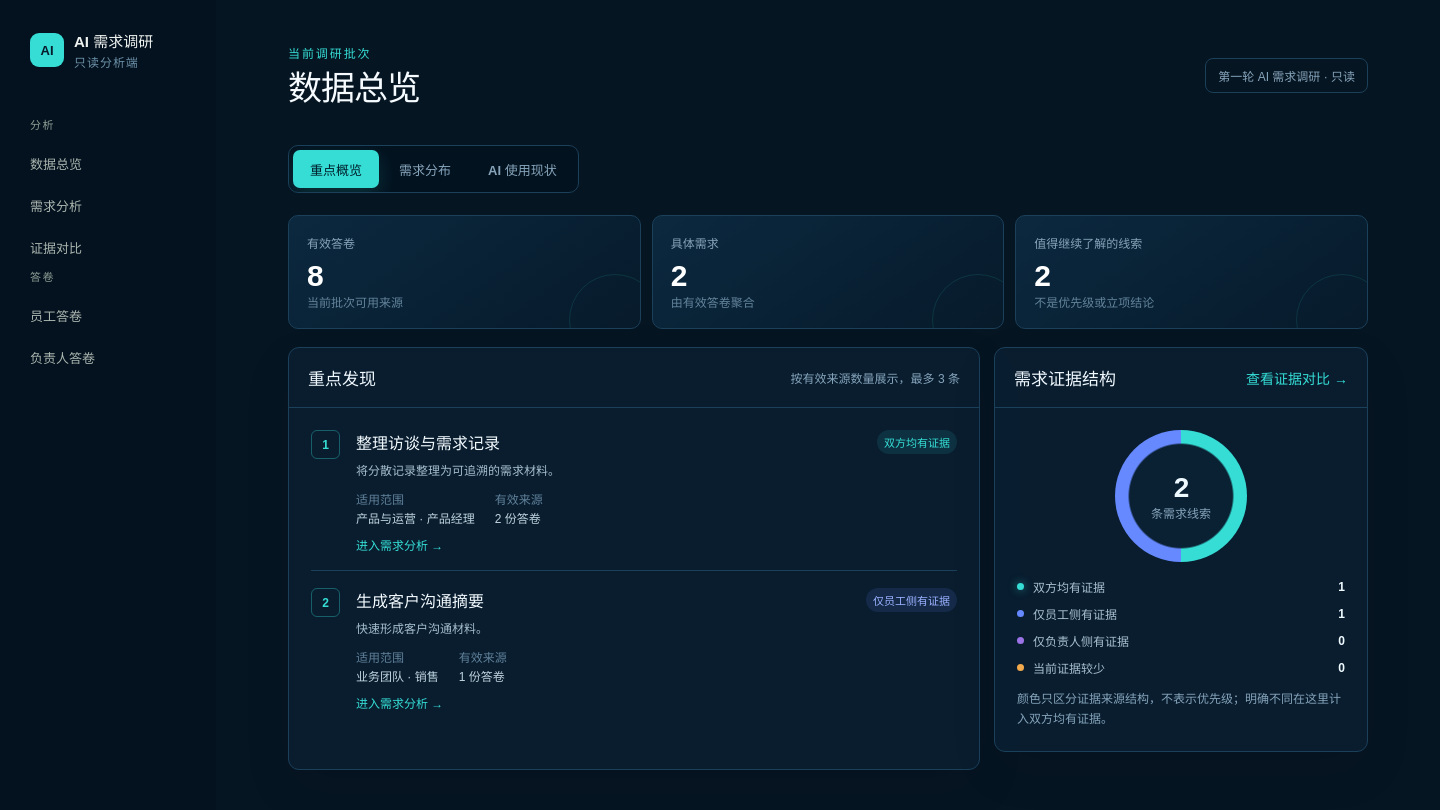
Scenario: D1 需求分布区分 0/n 和无样本，并声明颜色不表示优先级
Click the tab "需求分布".
click(425, 169)  # box [382,150,468,188]
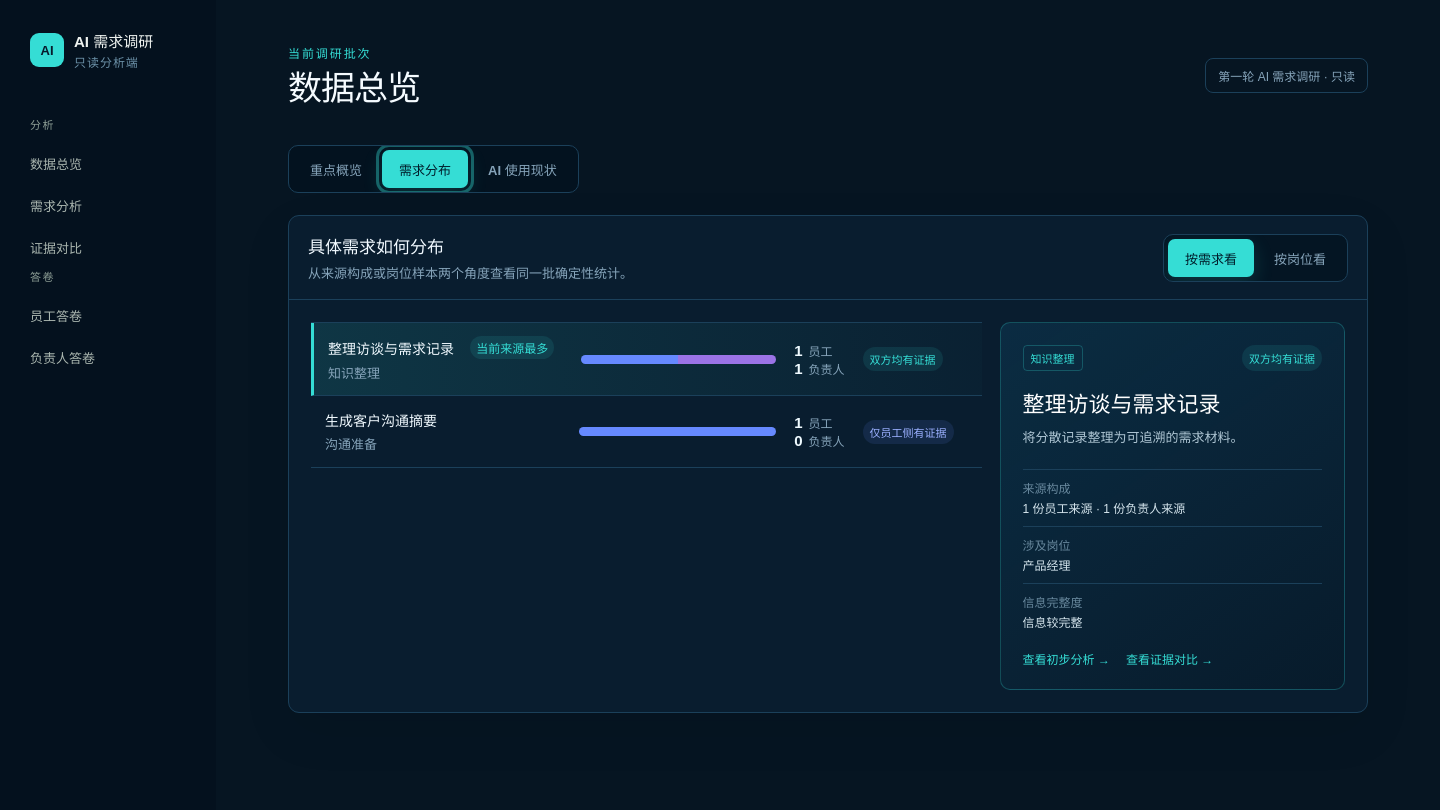
Expected: the 1st text "双方均有证据" is shown, [862,347,942,371]
Click the button "生成客户沟通摘要 沟通准备 1 员工 0 负责人 仅员工侧有证据".
click(646, 432)  # box [311,396,982,468]
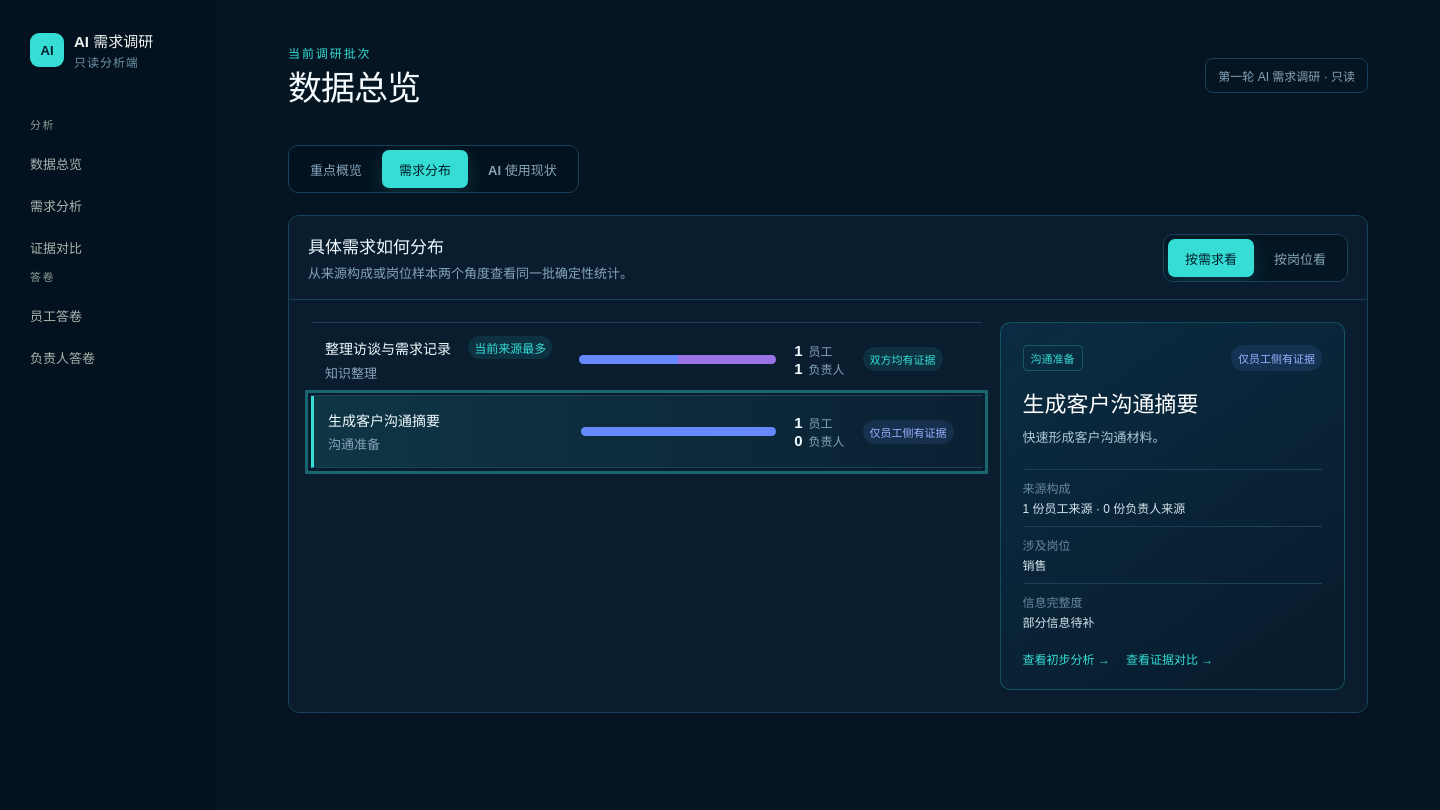
Expected: the 2nd text "仅员工侧有证据" is shown, [862,420,954,444]
Click the tab "按岗位看".
click(1300, 258)  # box [1257,239,1343,277]
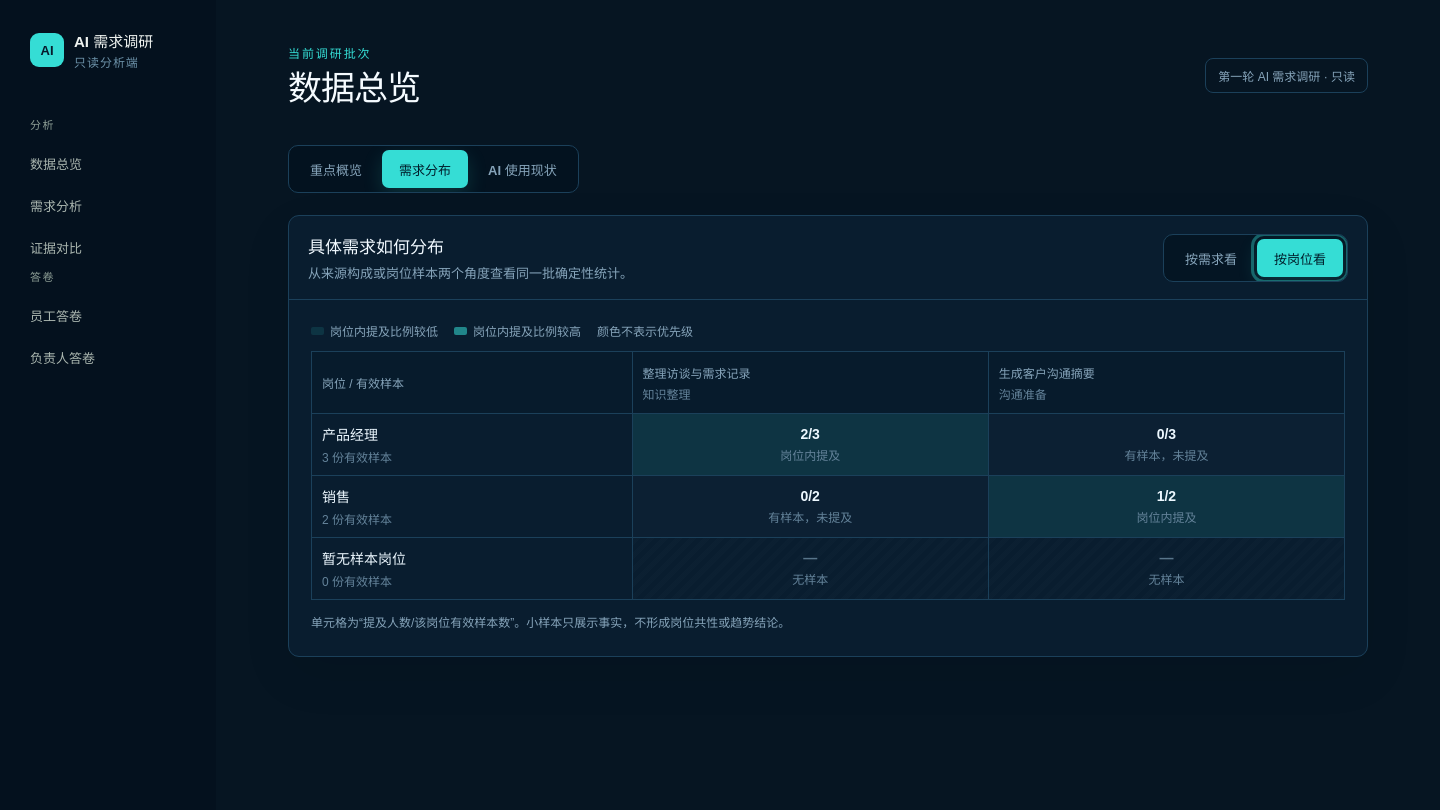
Now the text "0/3" is shown, box [1157,426,1176,442]
Now the 1st text "—" is shown, box [803,550,817,566]
Now the text "颜色不表示优先级" is shown, box [597,322,693,339]
